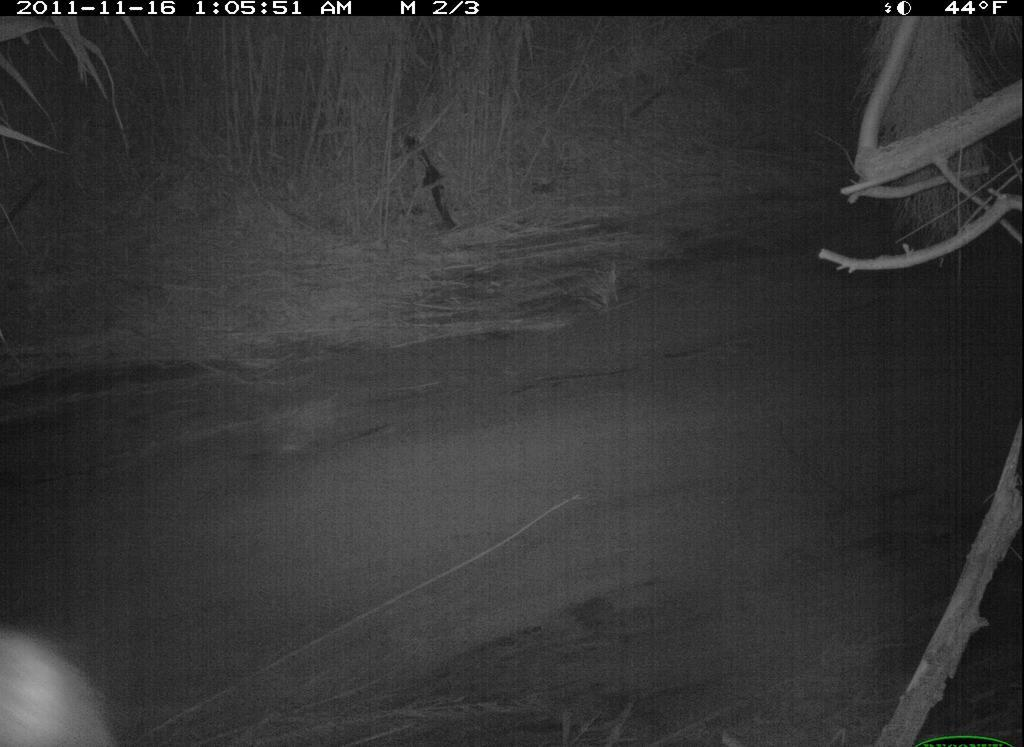raccoon: (3, 615, 132, 747)
